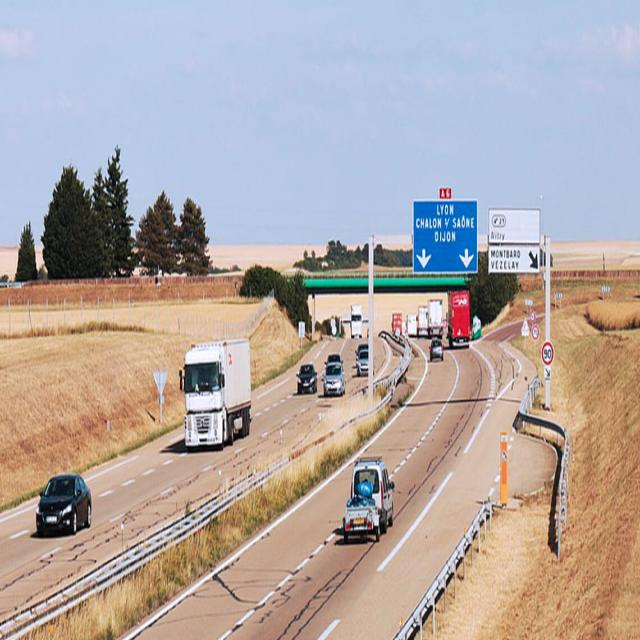direction: (412, 195, 477, 277), (487, 246, 545, 278)
speed_90: (540, 340, 554, 367)
